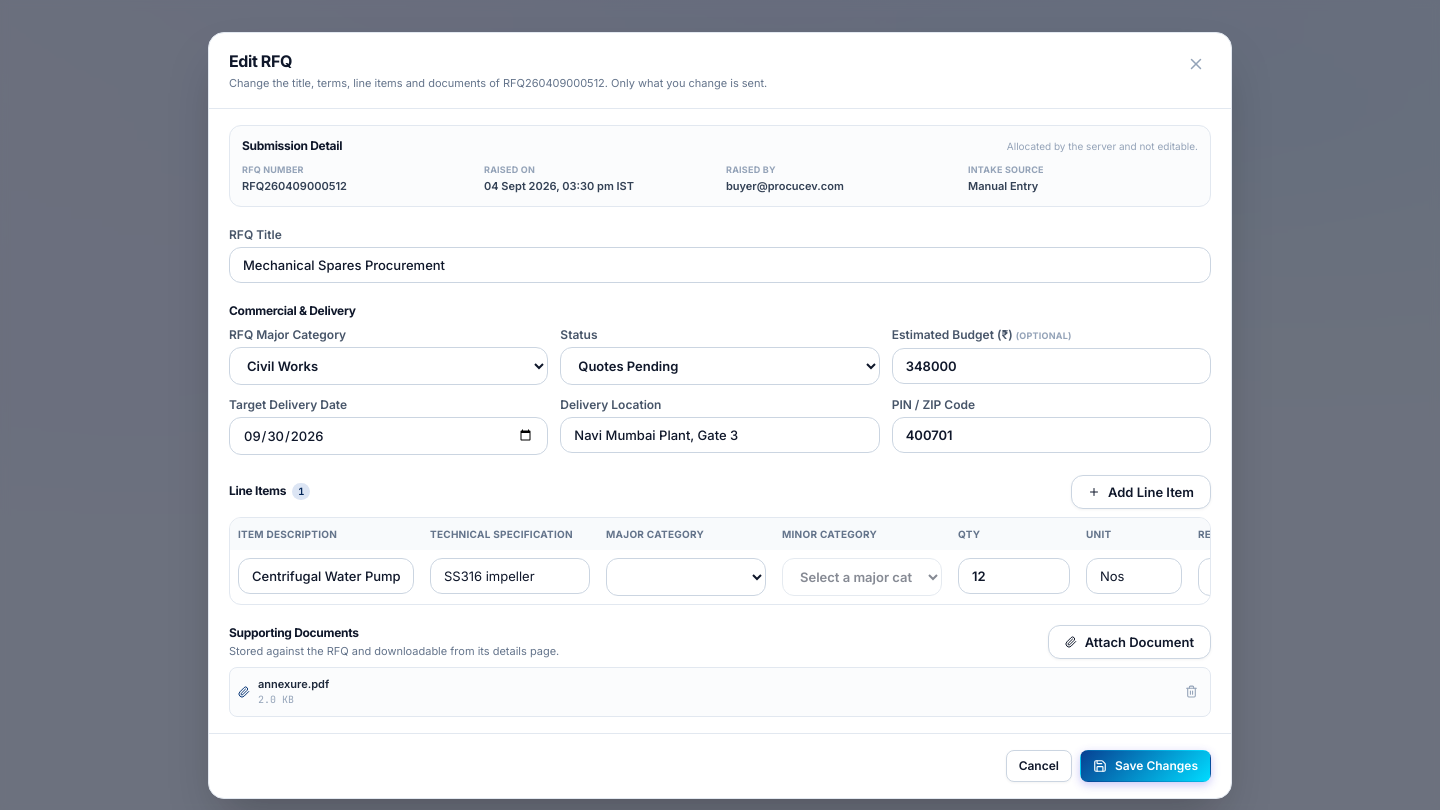
Scenario: RFQEditModal: line items › disables the minor category until a major is chosen
Expected: the dropdown named "Minor Category" is disabled, [782,558,942,596]
Select "Civil Works" in the dropdown named "Major Category": (686, 576) [606,558,766,596]
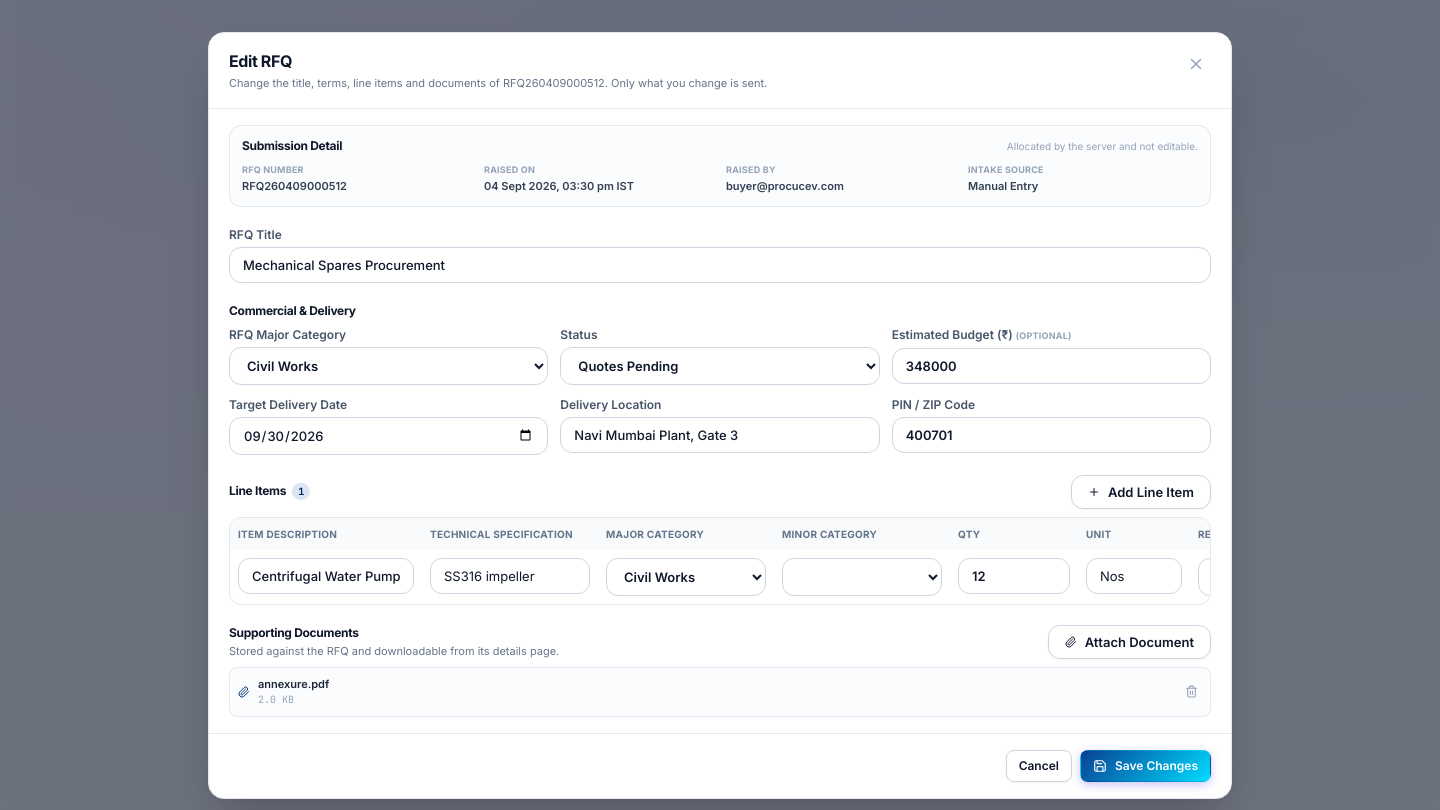
Now the dropdown named "Minor Category" is enabled, box [782,558,942,596]
